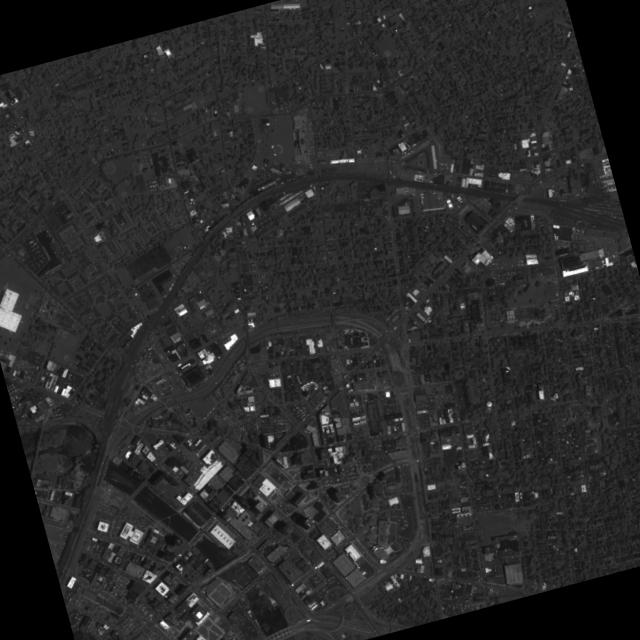storage-tank: (379, 558, 384, 564), (383, 559, 387, 564)
